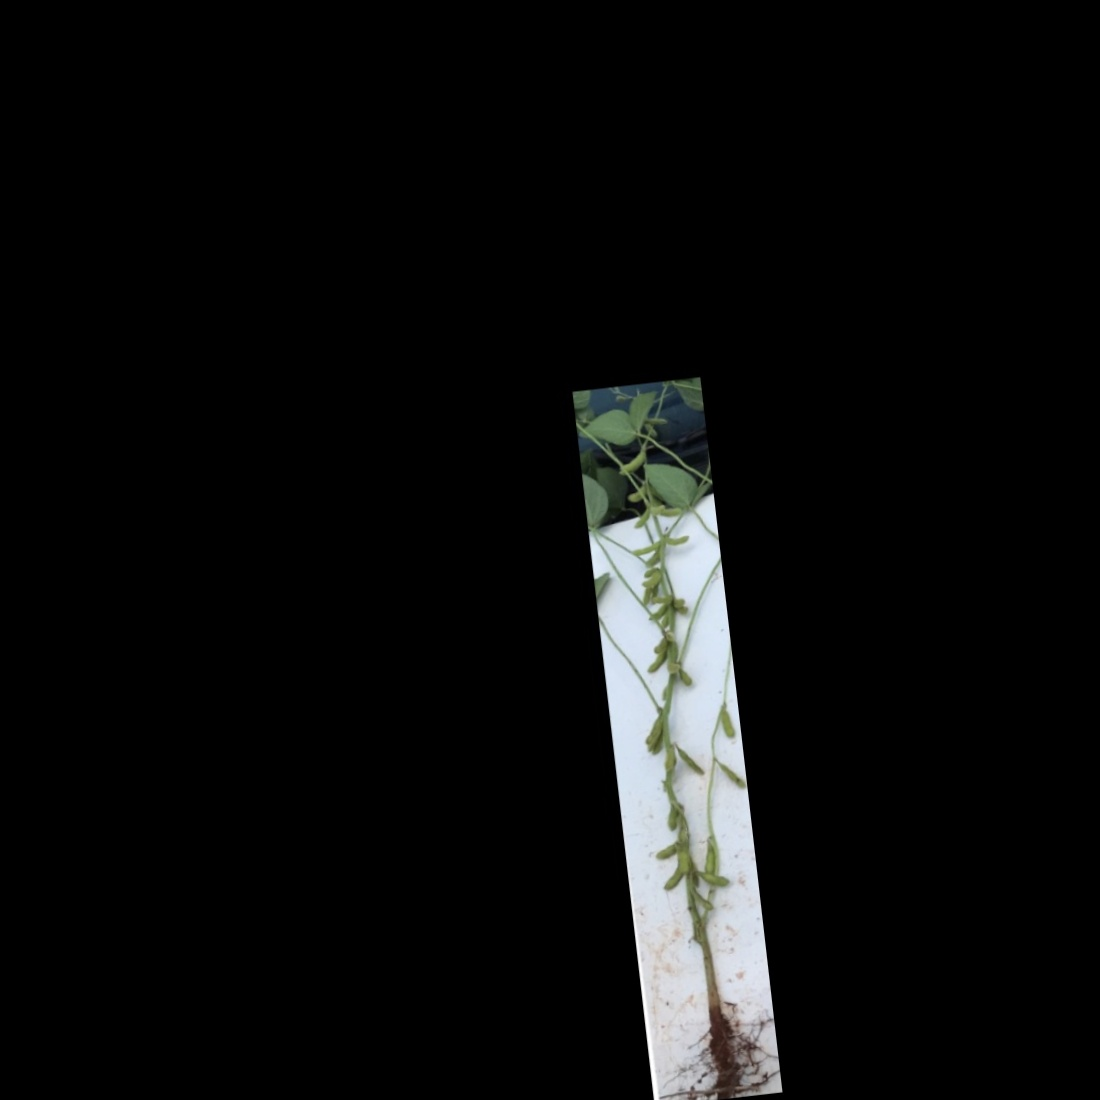pod: (671, 738, 706, 783), (711, 757, 745, 793), (696, 836, 718, 876), (616, 447, 647, 474), (717, 705, 738, 742), (627, 541, 663, 559), (690, 884, 714, 912), (647, 591, 675, 608), (661, 533, 692, 547)
soy: (575, 378, 778, 1100)
